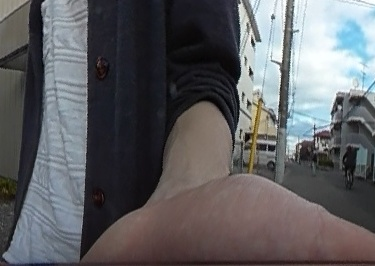person: (341, 143, 358, 190)
